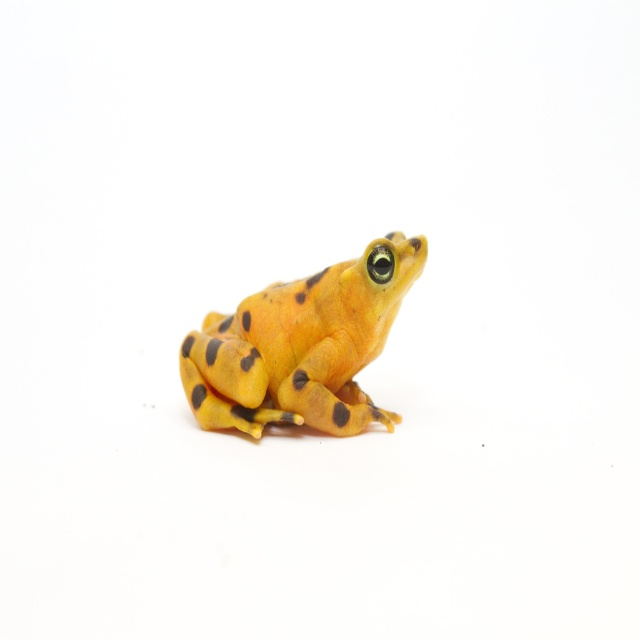Frog: (178, 231, 428, 439), (178, 231, 428, 438)
